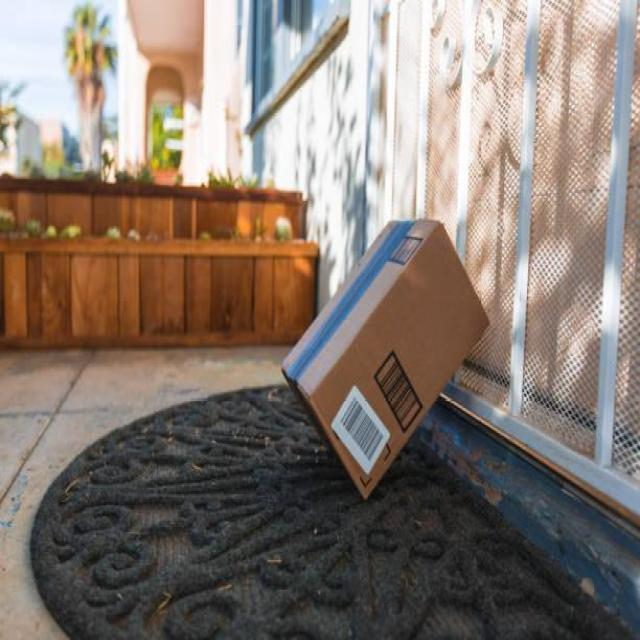box: (276, 209, 494, 507)
